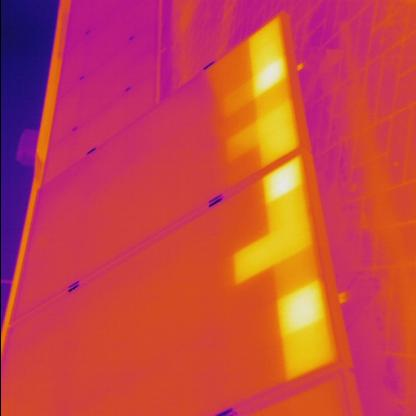hotspot: (250, 18, 284, 92), (276, 286, 322, 338), (263, 200, 309, 252), (262, 158, 300, 204), (231, 237, 268, 283), (256, 119, 295, 162)
